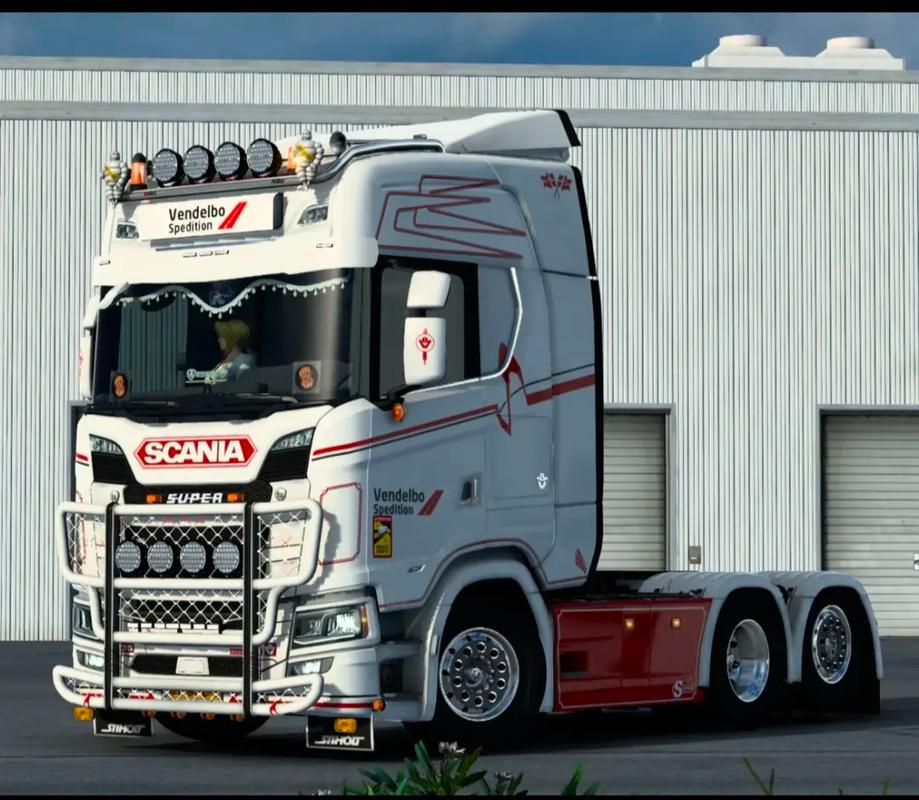卡车: (55, 92, 904, 780)
